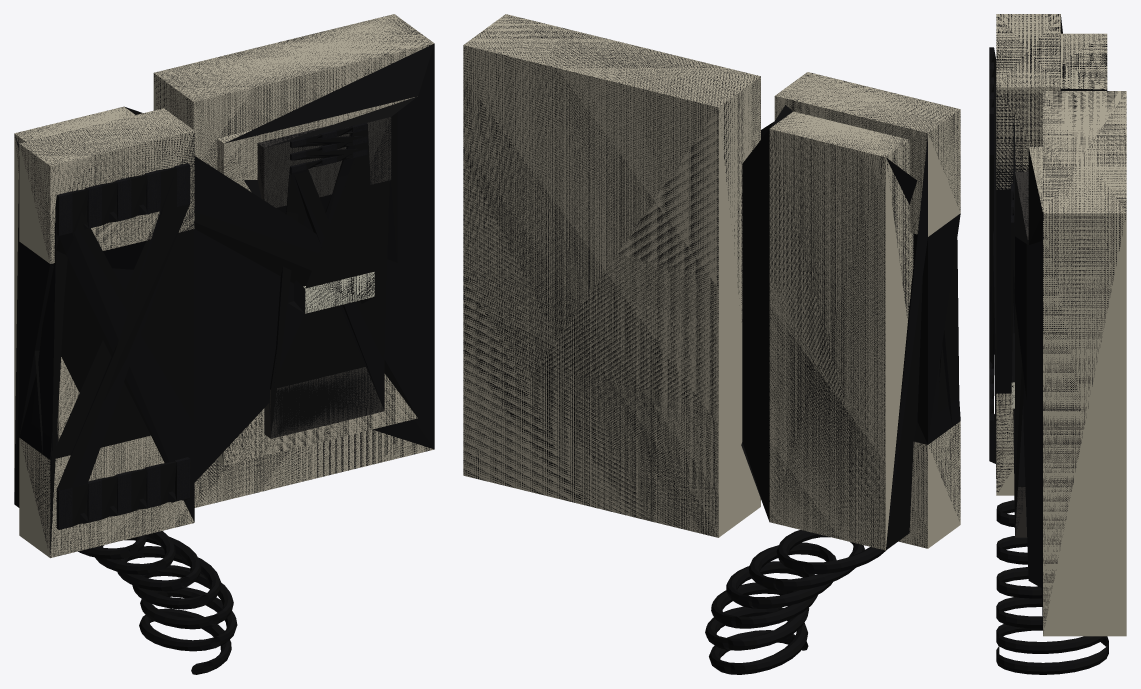
Rendered from handset_LOD0.obj.
3 renders of one model, left to right at view 1: azimuth 30°, elevation 25°; view 2: azimuth 150°, elevation 25°; view 3: azimuth 270°, elevation 25°, orthographic. The views are drawn at different scales.
Bounding box in the file's own units: 0.304 × 0.3948 × 0.0855.
